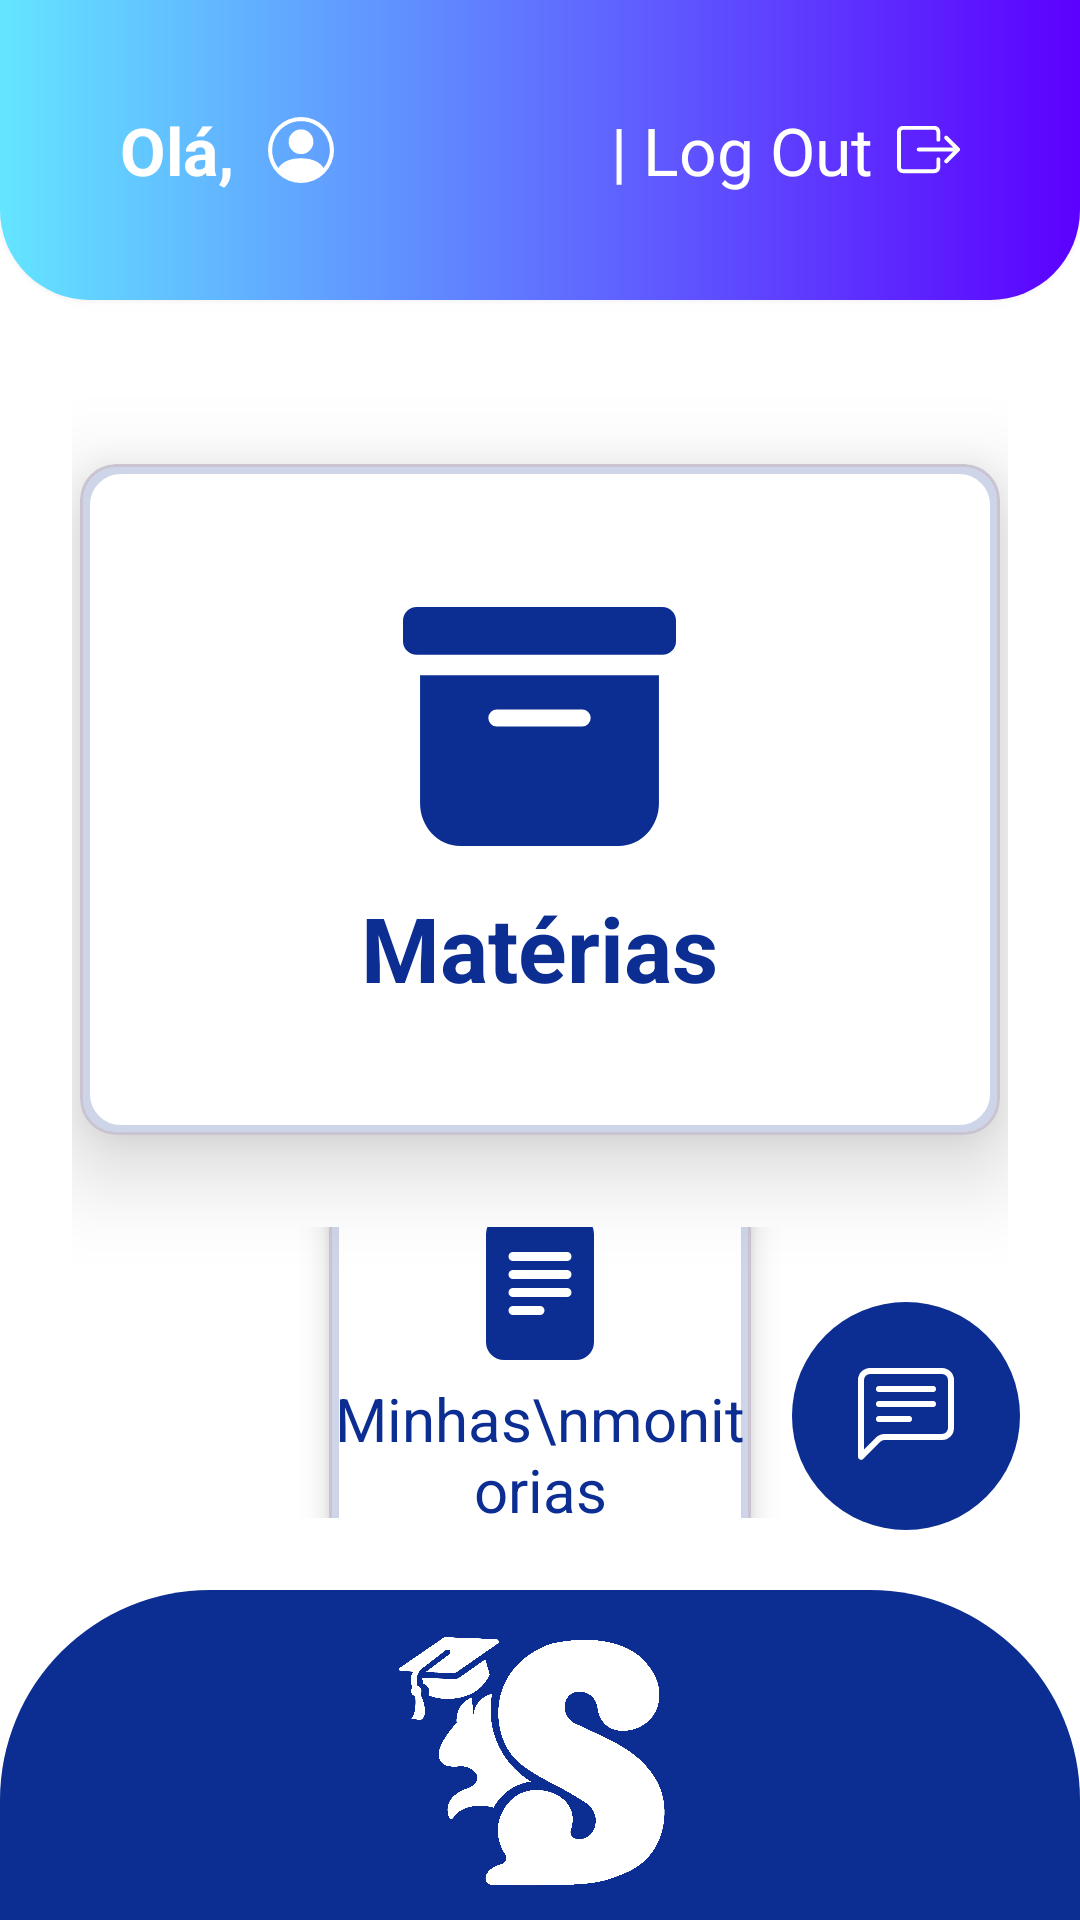

Screen size 1080px x 1920px. Icon name, then its center in pixels as point (x, y):
chat: point (906, 1416)
person: point (301, 150)
